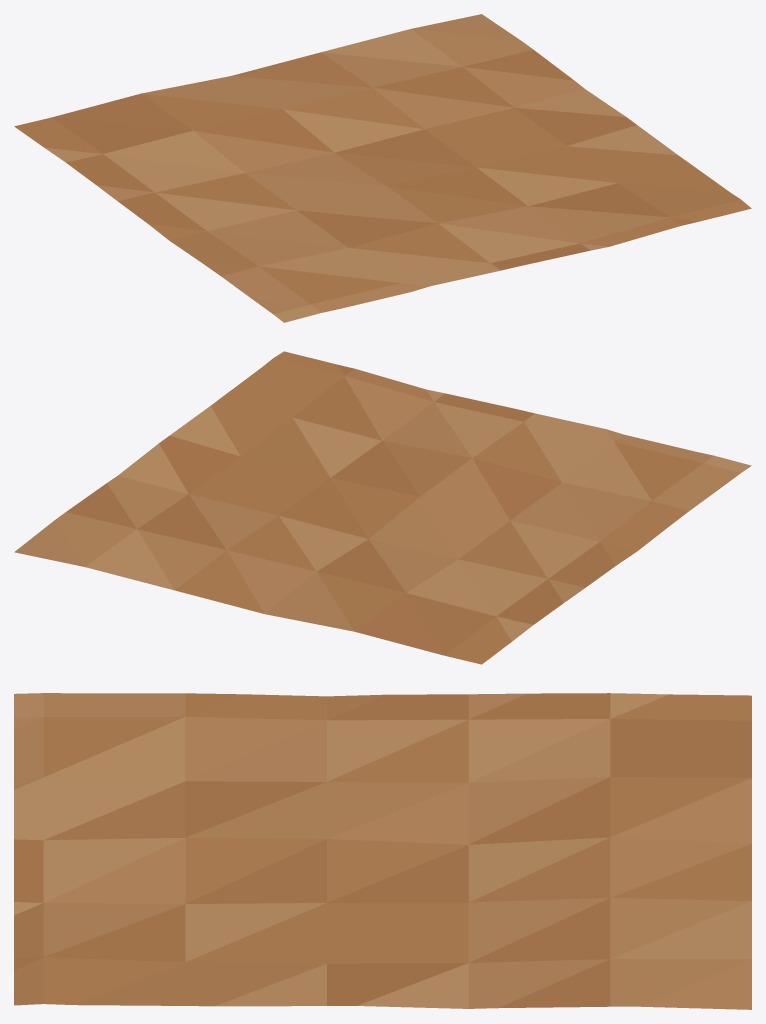
3 views of the same model, one above another, from view 1: azimuth 30°, elevation 25°; view 2: azimuth 150°, elevation 25°; view 3: azimuth 270°, elevation 25° (orthographic). The views are drawn at different scales.
Visible parts, largest first — view 1: baked; view 2: baked; view 3: baked.
Boxes of the visible parts, box(x1,y1,x2,y2) form: baked: box(14, 14, 751, 322); baked: box(14, 351, 751, 664); baked: box(14, 693, 751, 1009).
Bounding box in the file's own units: 62.5 × 0.7676 × 62.5.
